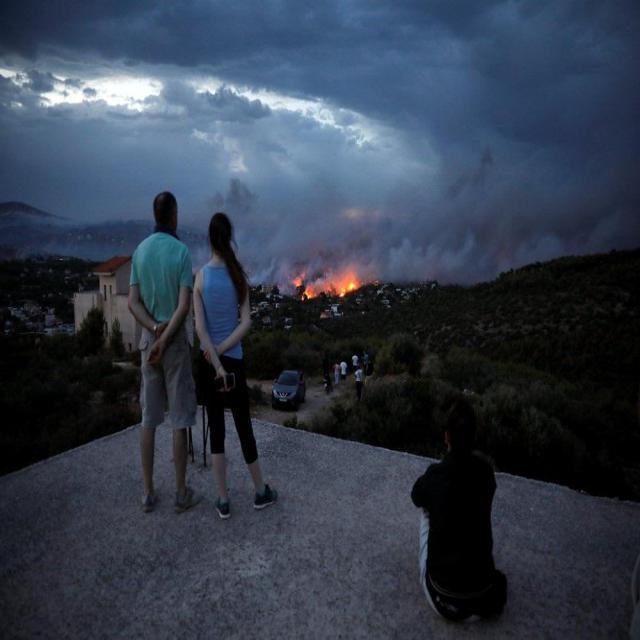Fire: (290, 266, 322, 308), (332, 268, 361, 304)
